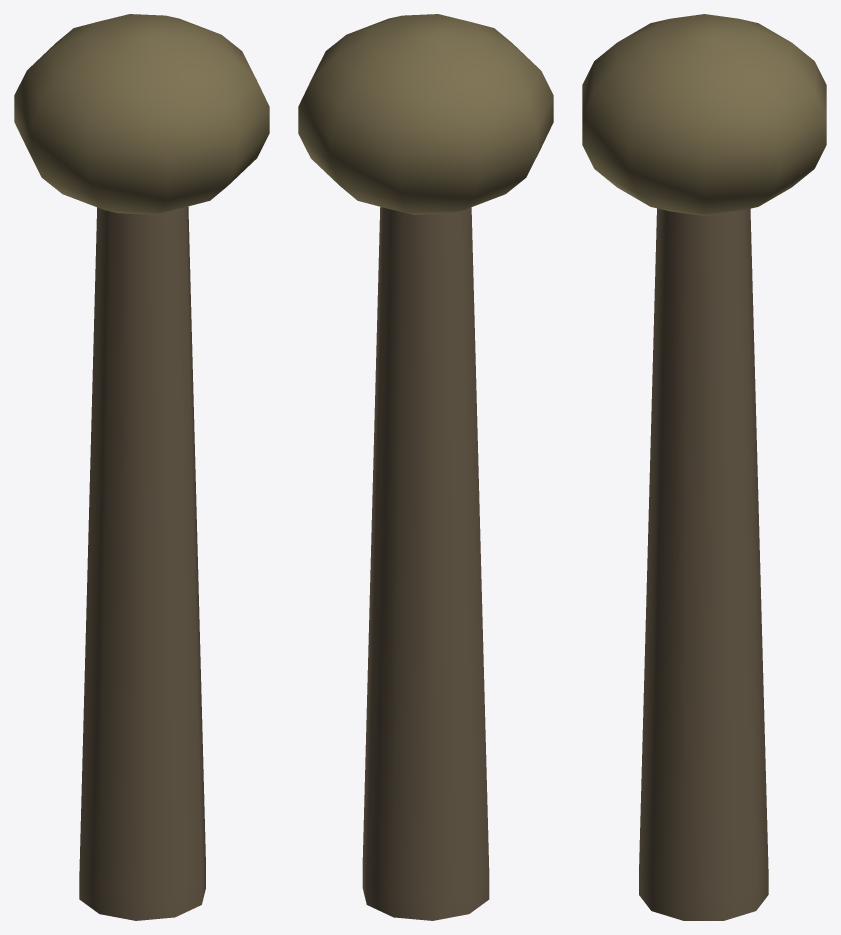
Rendered from stem with bud.fbx.
3 renders of one model, left to right at view 1: azimuth 30°, elevation 25°; view 2: azimuth 150°, elevation 25°; view 3: azimuth 270°, elevation 25°, orthographic.
Visible parts, largest first — view 1: polySurface72, polySurface62; view 2: polySurface72, polySurface62; view 3: polySurface72, polySurface62.
Boxes of the visible parts, x1,y1,x2,y2 form: polySurface72: [79, 206, 205, 920]; polySurface62: [14, 14, 269, 214]; polySurface72: [362, 207, 489, 920]; polySurface62: [298, 14, 553, 214]; polySurface72: [639, 208, 768, 920]; polySurface62: [582, 14, 826, 215].
Size of the model in its own units: 6.3 by 23.42 by 5.99.
